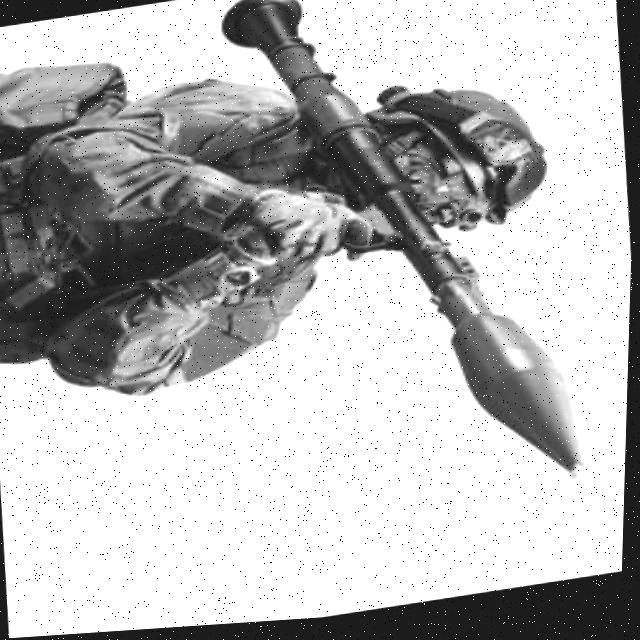rocket: (169, 0, 637, 539)
